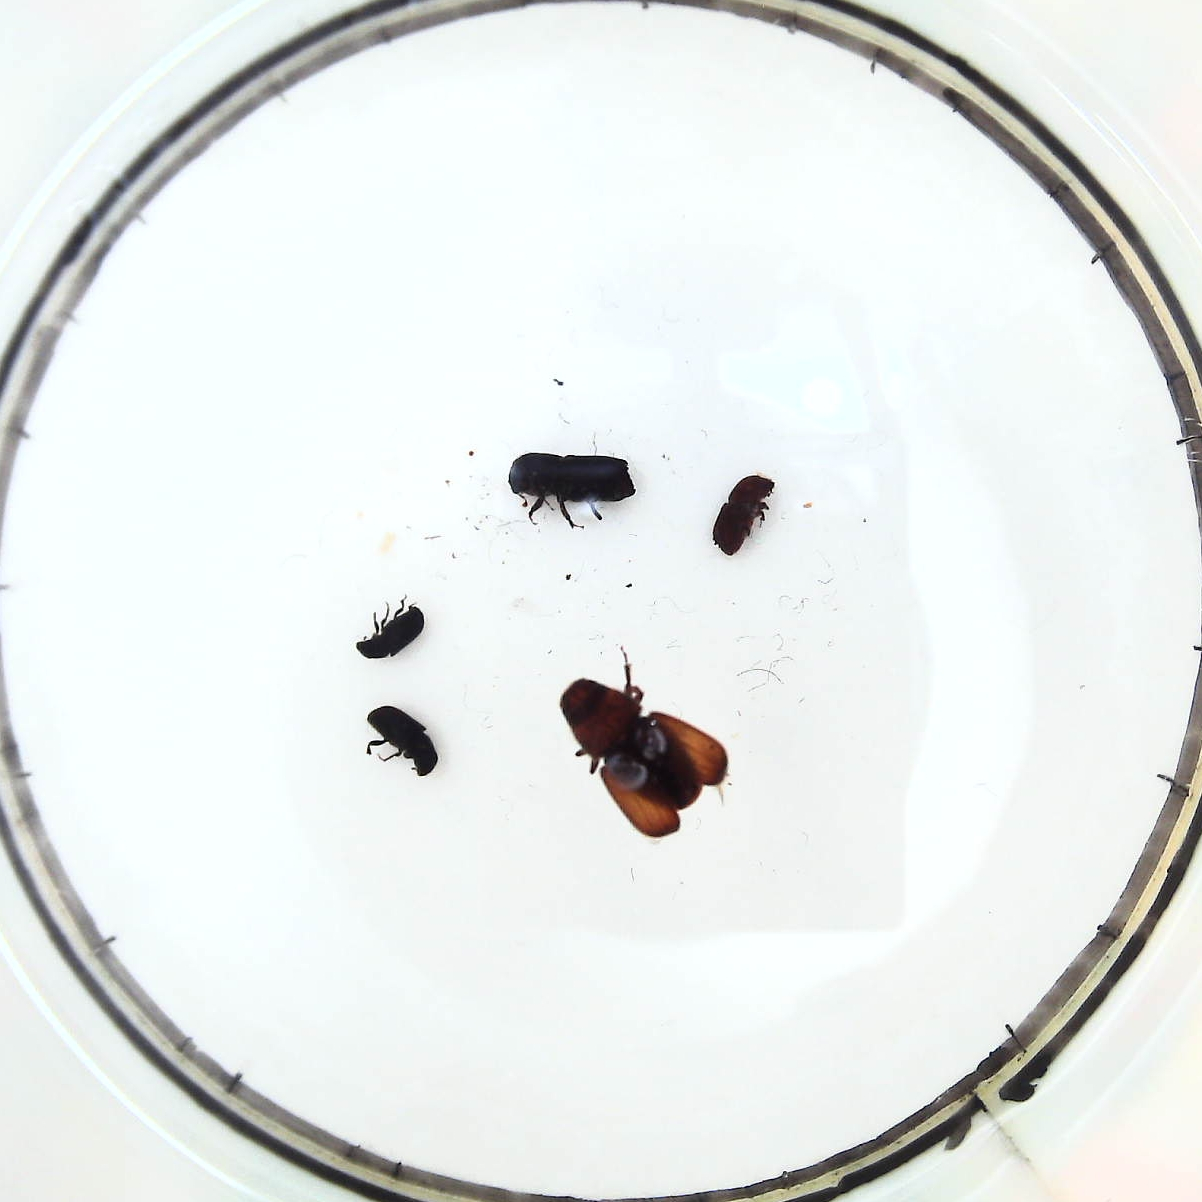Boerner: (509, 450, 638, 517)
Leconte: (559, 673, 732, 839)
Linnaeus: (712, 476, 778, 556)
armandi: (367, 702, 439, 775)
coleoptera: (359, 608, 426, 657)
